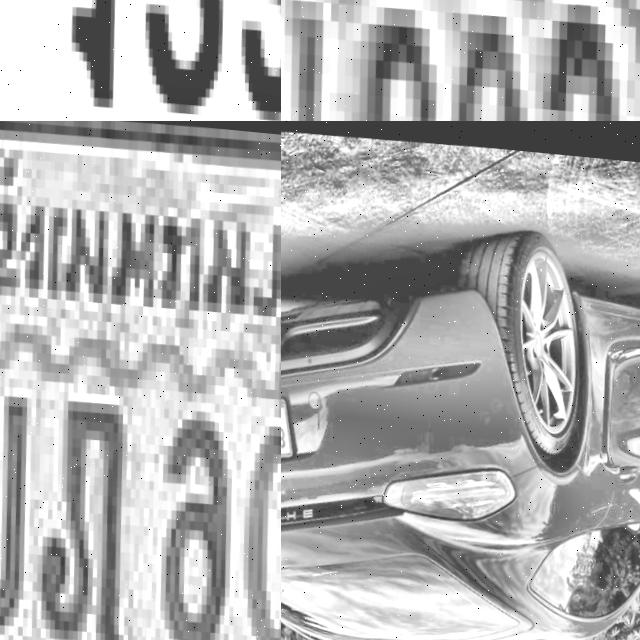license-plate: (0, 121, 281, 640), (281, 0, 640, 121), (0, 0, 281, 121), (281, 387, 300, 476)
